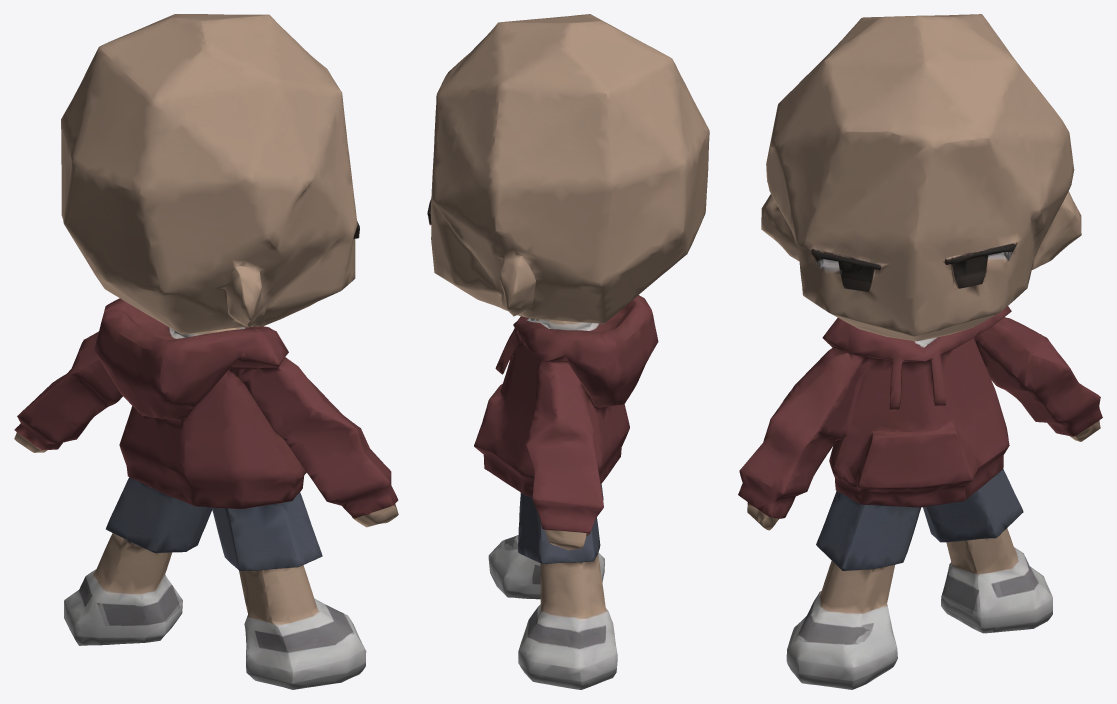
File: segmented.glb
3 views of the same model, side by side, from view 1: azimuth 30°, elevation 25°; view 2: azimuth 150°, elevation 25°; view 3: azimuth 270°, elevation 25° (orthographic). The views are drawn at different scales.
Visible parts, largest first — view 1: tripo_part_0, tripo_part_1, tripo_part_2; view 2: tripo_part_0, tripo_part_1, tripo_part_2; view 3: tripo_part_0, tripo_part_1, tripo_part_2, tripo_part_4, tripo_part_3.
Boxes of the visible parts, <box> form: tripo_part_0: <box>14,14,398,527</box>; tripo_part_1: <box>14,298,398,518</box>; tripo_part_2: <box>64,477,366,689</box>; tripo_part_0: <box>429,14,709,550</box>; tripo_part_1: <box>474,295,658,536</box>; tripo_part_2: <box>488,484,617,689</box>; tripo_part_0: <box>747,14,1100,530</box>; tripo_part_1: <box>738,306,1102,522</box>; tripo_part_2: <box>786,469,1052,689</box>; tripo_part_4: <box>836,255,988,291</box>; tripo_part_3: <box>811,244,1016,269</box>.
Size of the model in its own units: 0.4385 by 1 by 0.533.
Materials: 5 (5 with a texture image).
